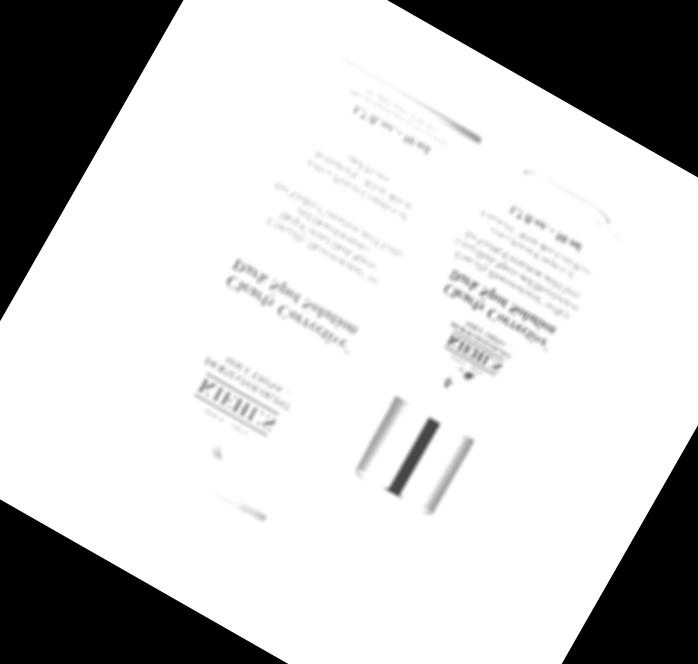cosmetic: (297, 168, 622, 598)
